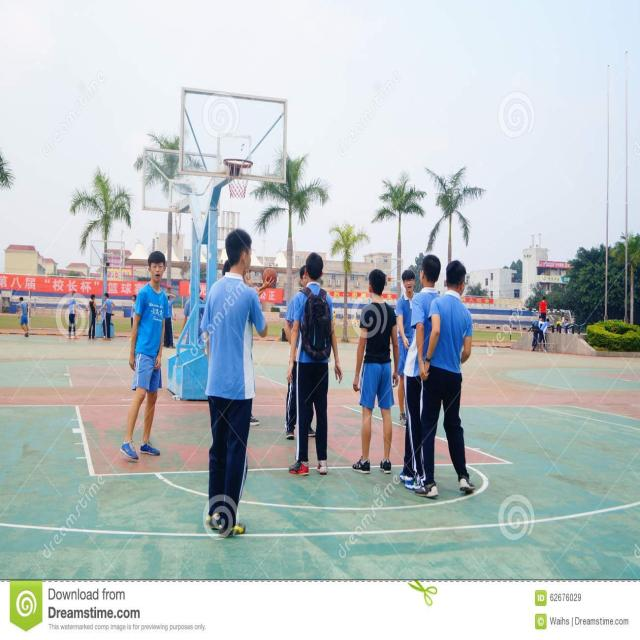body: (198, 226, 271, 541), (412, 259, 477, 499), (284, 250, 344, 477), (118, 249, 170, 461), (398, 254, 443, 490), (351, 267, 399, 476), (284, 264, 316, 440), (394, 268, 417, 426), (221, 258, 280, 295), (179, 285, 206, 350), (102, 292, 116, 341), (164, 292, 176, 349), (85, 293, 98, 341), (67, 291, 79, 340), (530, 316, 546, 352), (538, 316, 552, 352), (17, 296, 29, 337), (98, 299, 106, 339), (538, 295, 548, 323), (130, 295, 137, 330), (249, 411, 260, 427), (555, 317, 564, 334), (351, 311, 357, 328), (564, 318, 570, 334), (332, 310, 337, 327)
